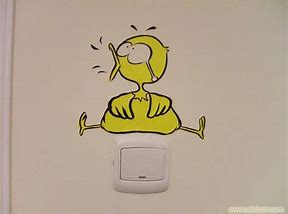switch: (119, 144, 168, 183)
